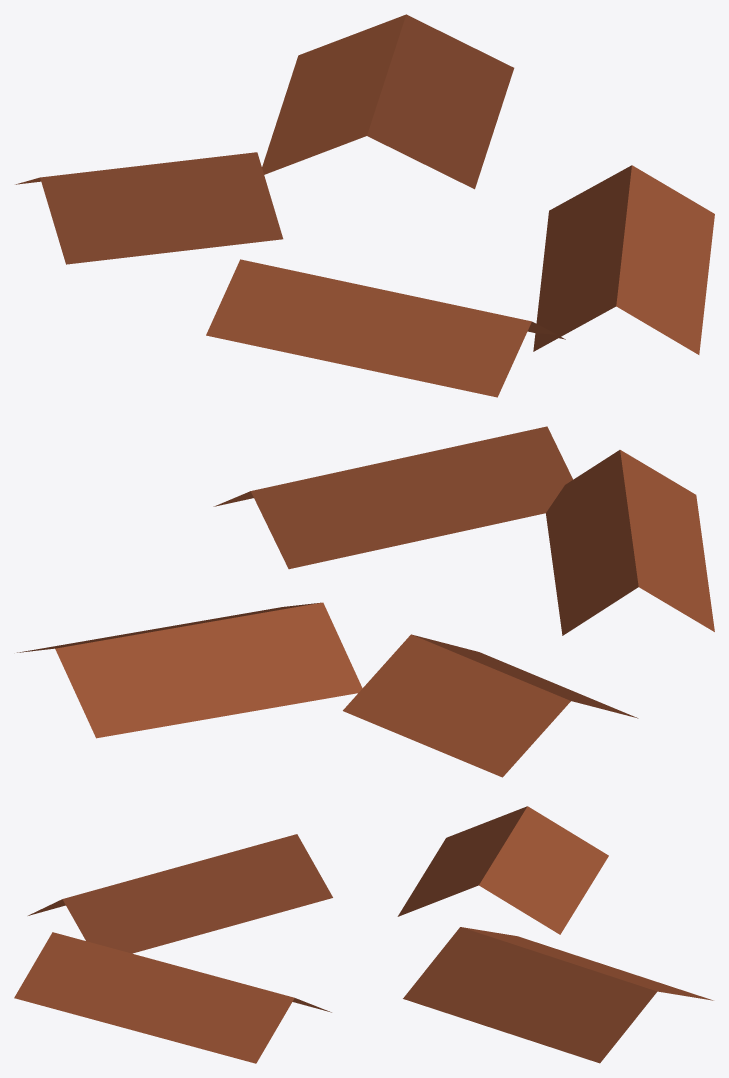
File: pot_shards.glb
3 views of the same model, one above another, from view 1: azimuth 30°, elevation 25°; view 2: azimuth 150°, elevation 25°; view 3: azimuth 270°, elevation 25° (orthographic). The views are drawn at different scales.
Visible parts, largest first — view 1: pot_shards; view 2: pot_shards; view 3: pot_shards.
Part boxes in pixels (left/top/right/bottom): pot_shards: left=15, top=14, right=714, bottom=397; pot_shards: left=17, top=426, right=714, bottom=777; pot_shards: left=14, top=806, right=713, bottom=1063.
Bounding box in the file's own units: 0.3339 × 0.028 × 0.4377.
